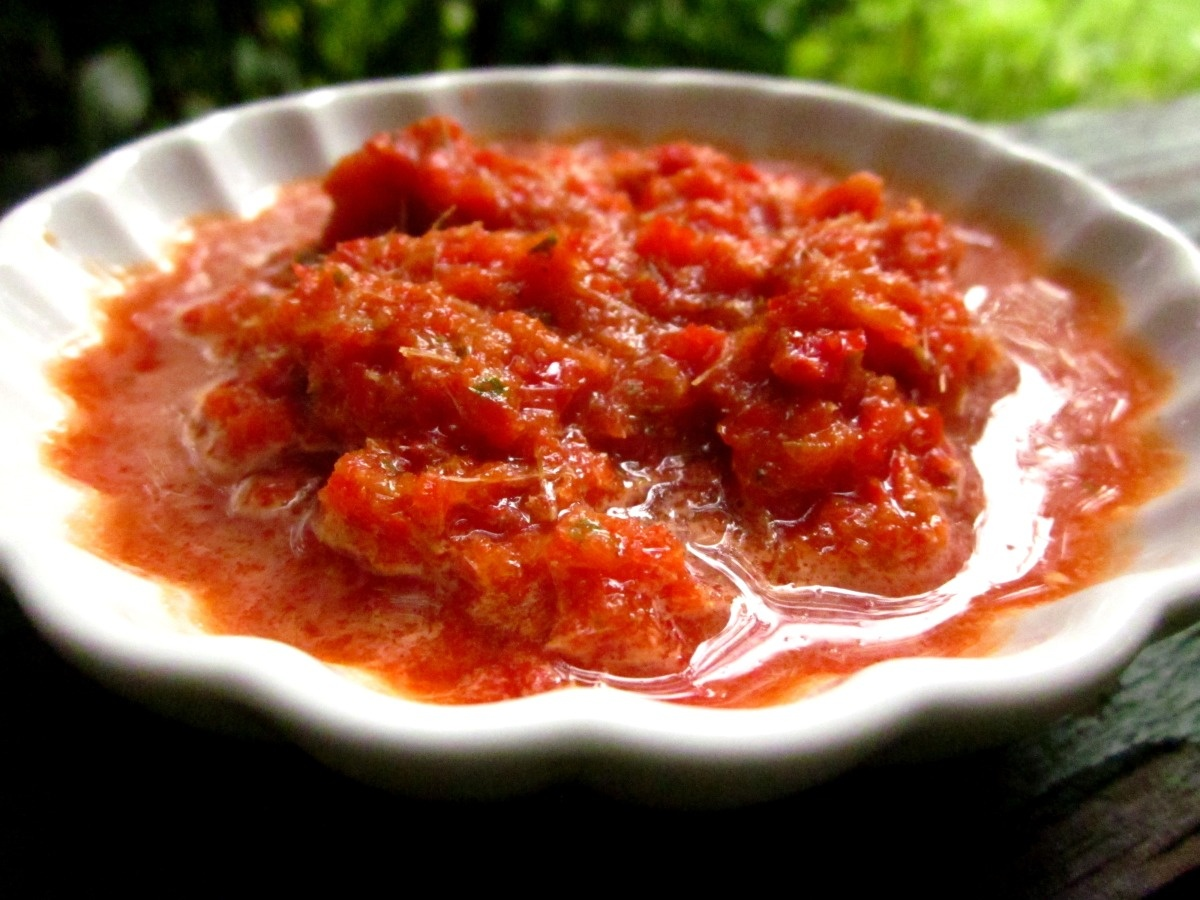sambal: (124, 113, 1010, 670)
